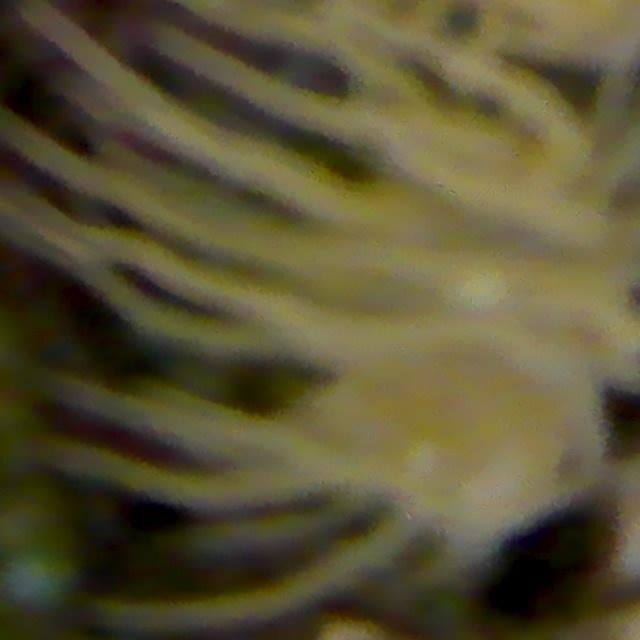SeaGrape: (1, 540, 69, 620), (0, 485, 63, 560)
